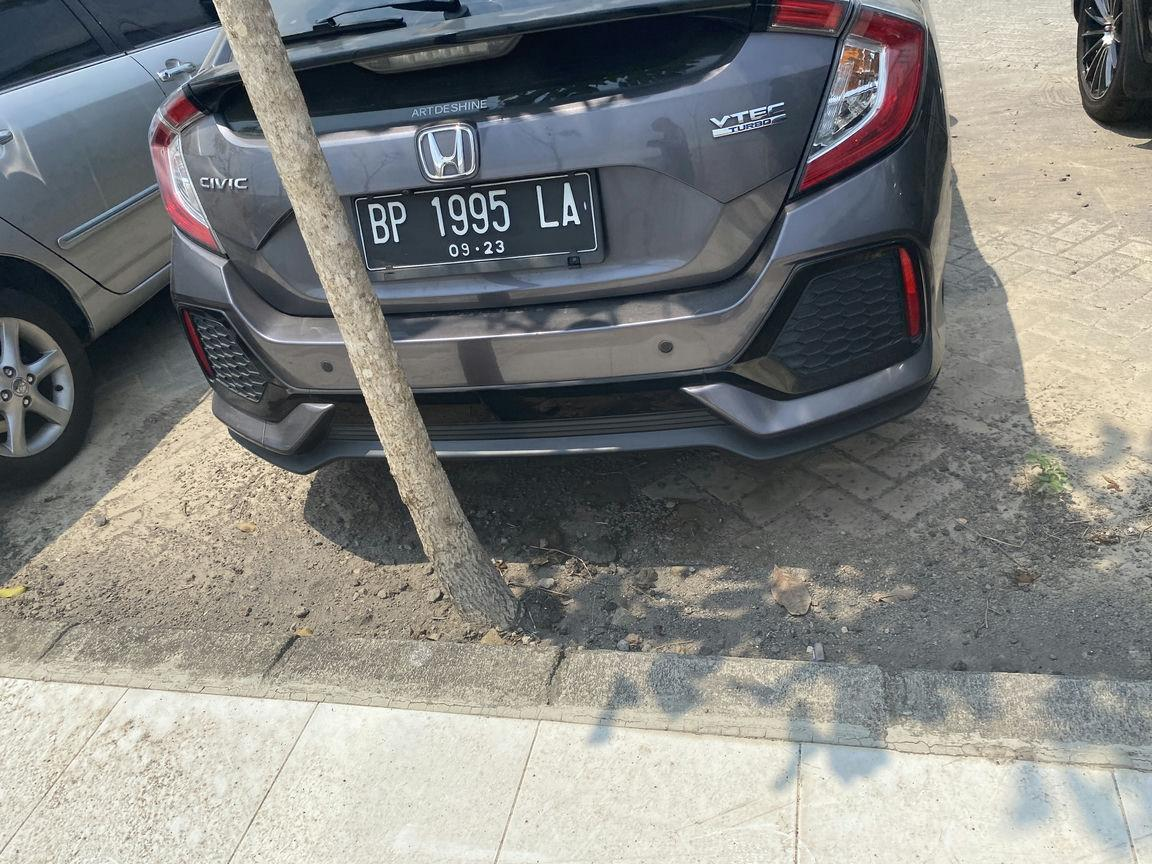plat: (356, 173, 601, 272)
